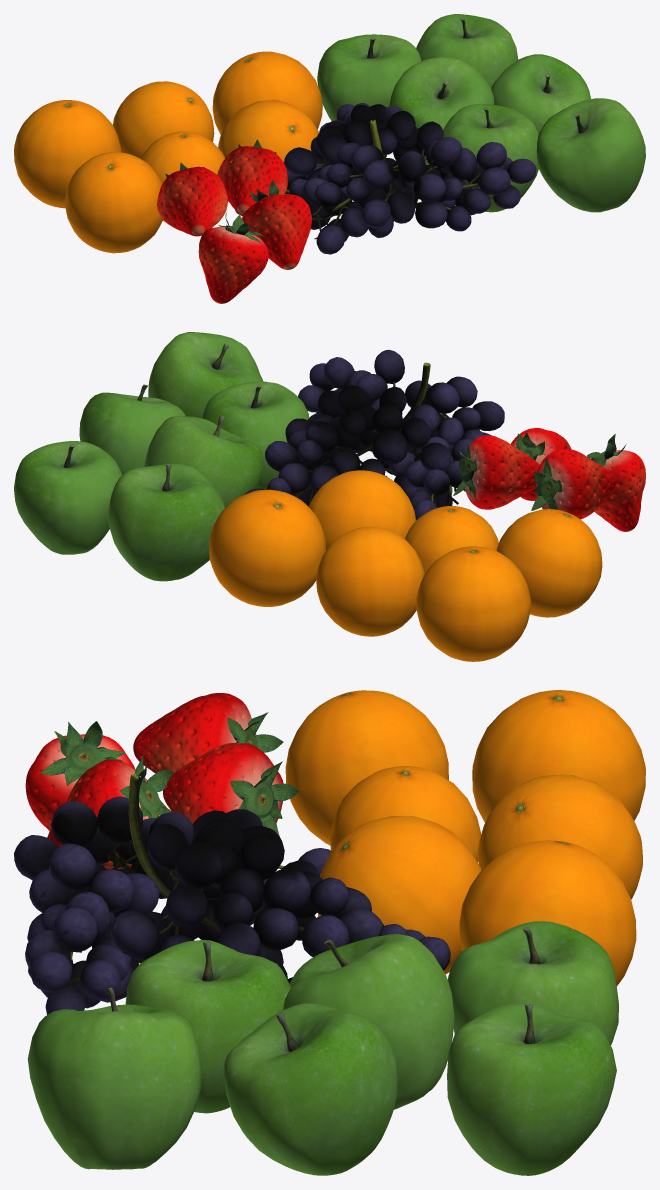
File: all_fruits_model_optimized.fbx
The picture shows the model from 3 angles, top to bottom: view 1: azimuth 30°, elevation 25°; view 2: azimuth 150°, elevation 25°; view 3: azimuth 270°, elevation 25°; orthographic projection. The views are drawn at different scales.
Parts seen in each view (by area): view 1: greenApples, Oranges, grapes, strawberry; view 2: Oranges, greenApples, grapes, strawberry; view 3: greenApples, Oranges, grapes, strawberry.
Part boxes in pixels (x1,y1,x2,y2): greenApples: (317, 14, 645, 212); Oranges: (14, 51, 322, 253); grapes: (235, 103, 536, 254); strawberry: (157, 139, 311, 303); Oranges: (209, 470, 602, 661); greenApples: (14, 332, 309, 581); grapes: (244, 350, 504, 519); strawberry: (453, 428, 645, 531); greenApples: (27, 921, 618, 1175); Oranges: (285, 690, 645, 986); grapes: (14, 773, 450, 1014); strawberry: (25, 693, 299, 869).
Bounding box in the file's own units: 43.94 × 11.69 × 30.05.
